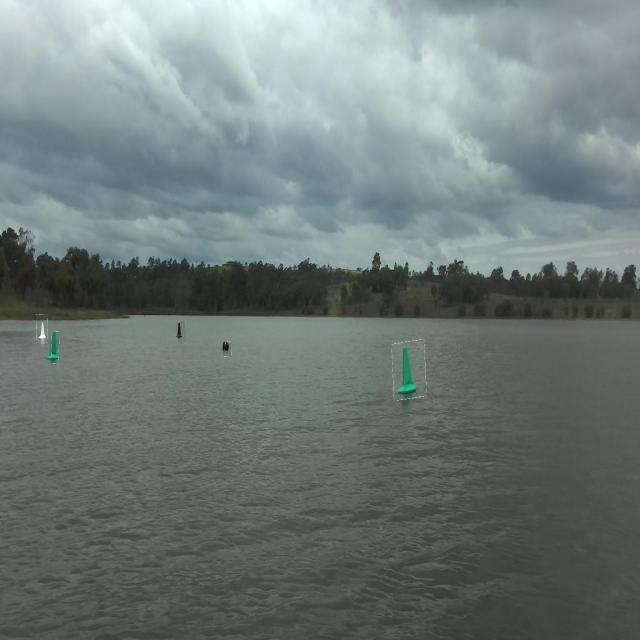Black_Buoy: (221, 337, 245, 372), (177, 315, 189, 350)
Green_Buoy: (401, 341, 424, 411), (44, 330, 66, 364)
White_Buoy: (32, 309, 49, 341)
